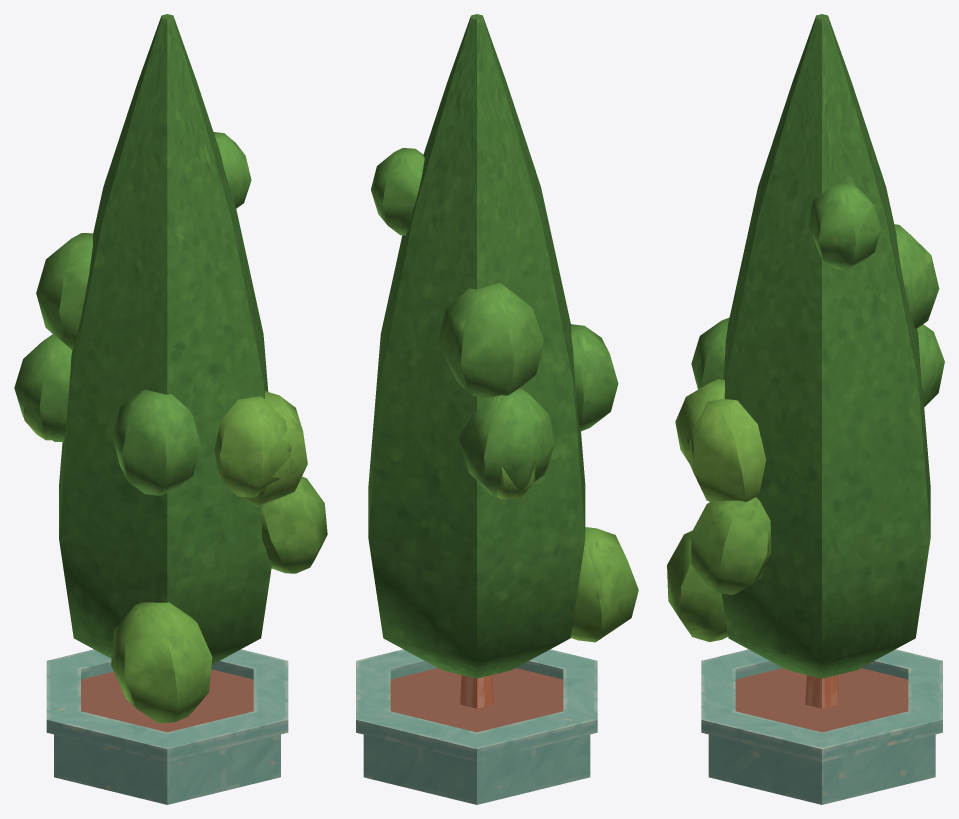
File: cypress_low.fbx
3 renders of one model, left to right at view 1: azimuth 30°, elevation 25°; view 2: azimuth 150°, elevation 25°; view 3: azimuth 270°, elevation 25°, orthographic.
Visible parts, largest first — view 1: cypress; view 2: cypress; view 3: cypress.
Boxes of the visible parts, x1,y1,x2,y2 form: cypress: (14, 14, 327, 804); cypress: (356, 14, 638, 804); cypress: (667, 14, 944, 804).
Bounding box in the file's own units: 4.9 × 14.2 × 4.88.
Materials: 1 (1 with a texture image).
